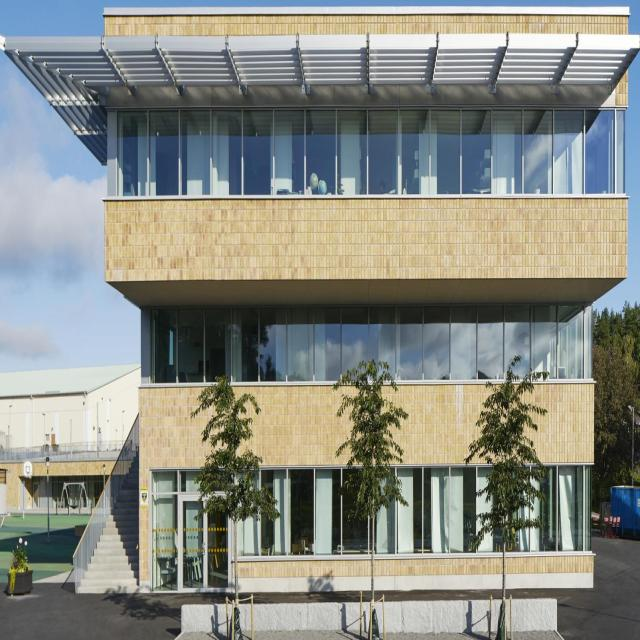door: (178, 493, 209, 592)
window: (115, 110, 616, 197), (150, 308, 583, 380), (234, 472, 586, 554), (153, 474, 232, 590)
